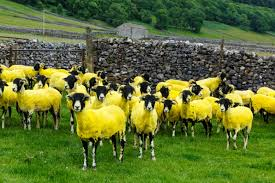sheep: (66, 92, 127, 164), (12, 78, 63, 129), (216, 99, 255, 147), (131, 93, 158, 158), (178, 87, 214, 135), (32, 61, 68, 87), (218, 84, 253, 107), (90, 85, 120, 107), (251, 93, 275, 120), (162, 99, 180, 134), (197, 71, 228, 89), (60, 73, 87, 93), (156, 85, 179, 101)
